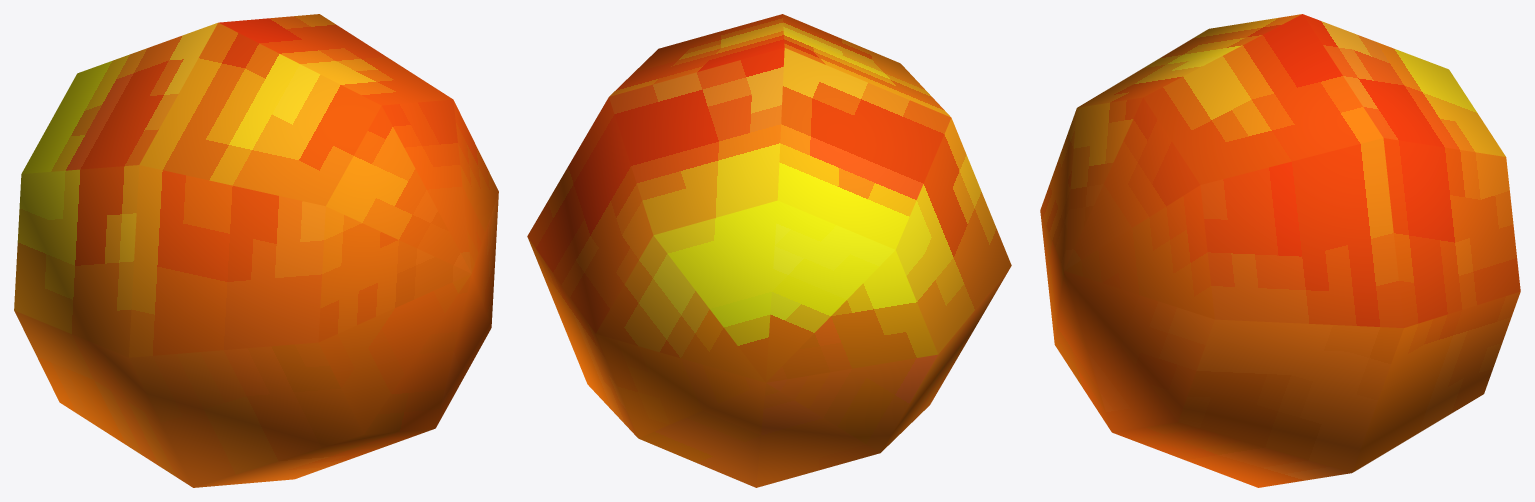
3 renders of one model, left to right at view 1: azimuth 30°, elevation 25°; view 2: azimuth 150°, elevation 25°; view 3: azimuth 270°, elevation 25°, orthographic. The views are drawn at different scales.
Parts seen in each view (by area): view 1: Sphere_8 (1); view 2: Sphere_8 (1); view 3: Sphere_8 (1).
Part boxes in pixels (x1,y1,x2,y2): Sphere_8 (1): (14,14,498,487); Sphere_8 (1): (527,14,1011,487); Sphere_8 (1): (1040,14,1520,487).
Bounding box in the file's own units: 1.02 × 1.06 × 1.03.
